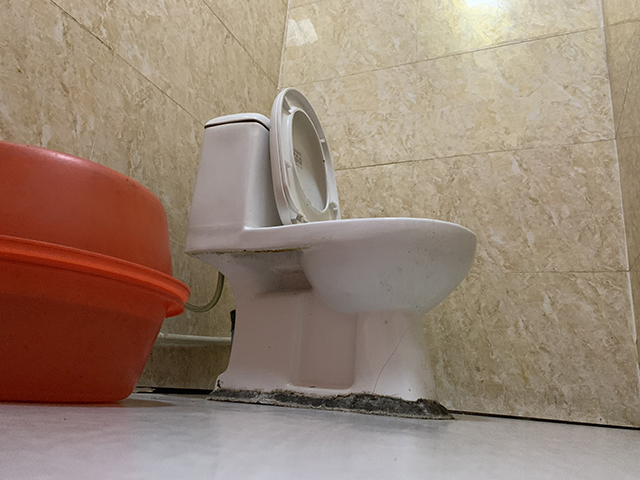closestool: (183, 84, 479, 420)
